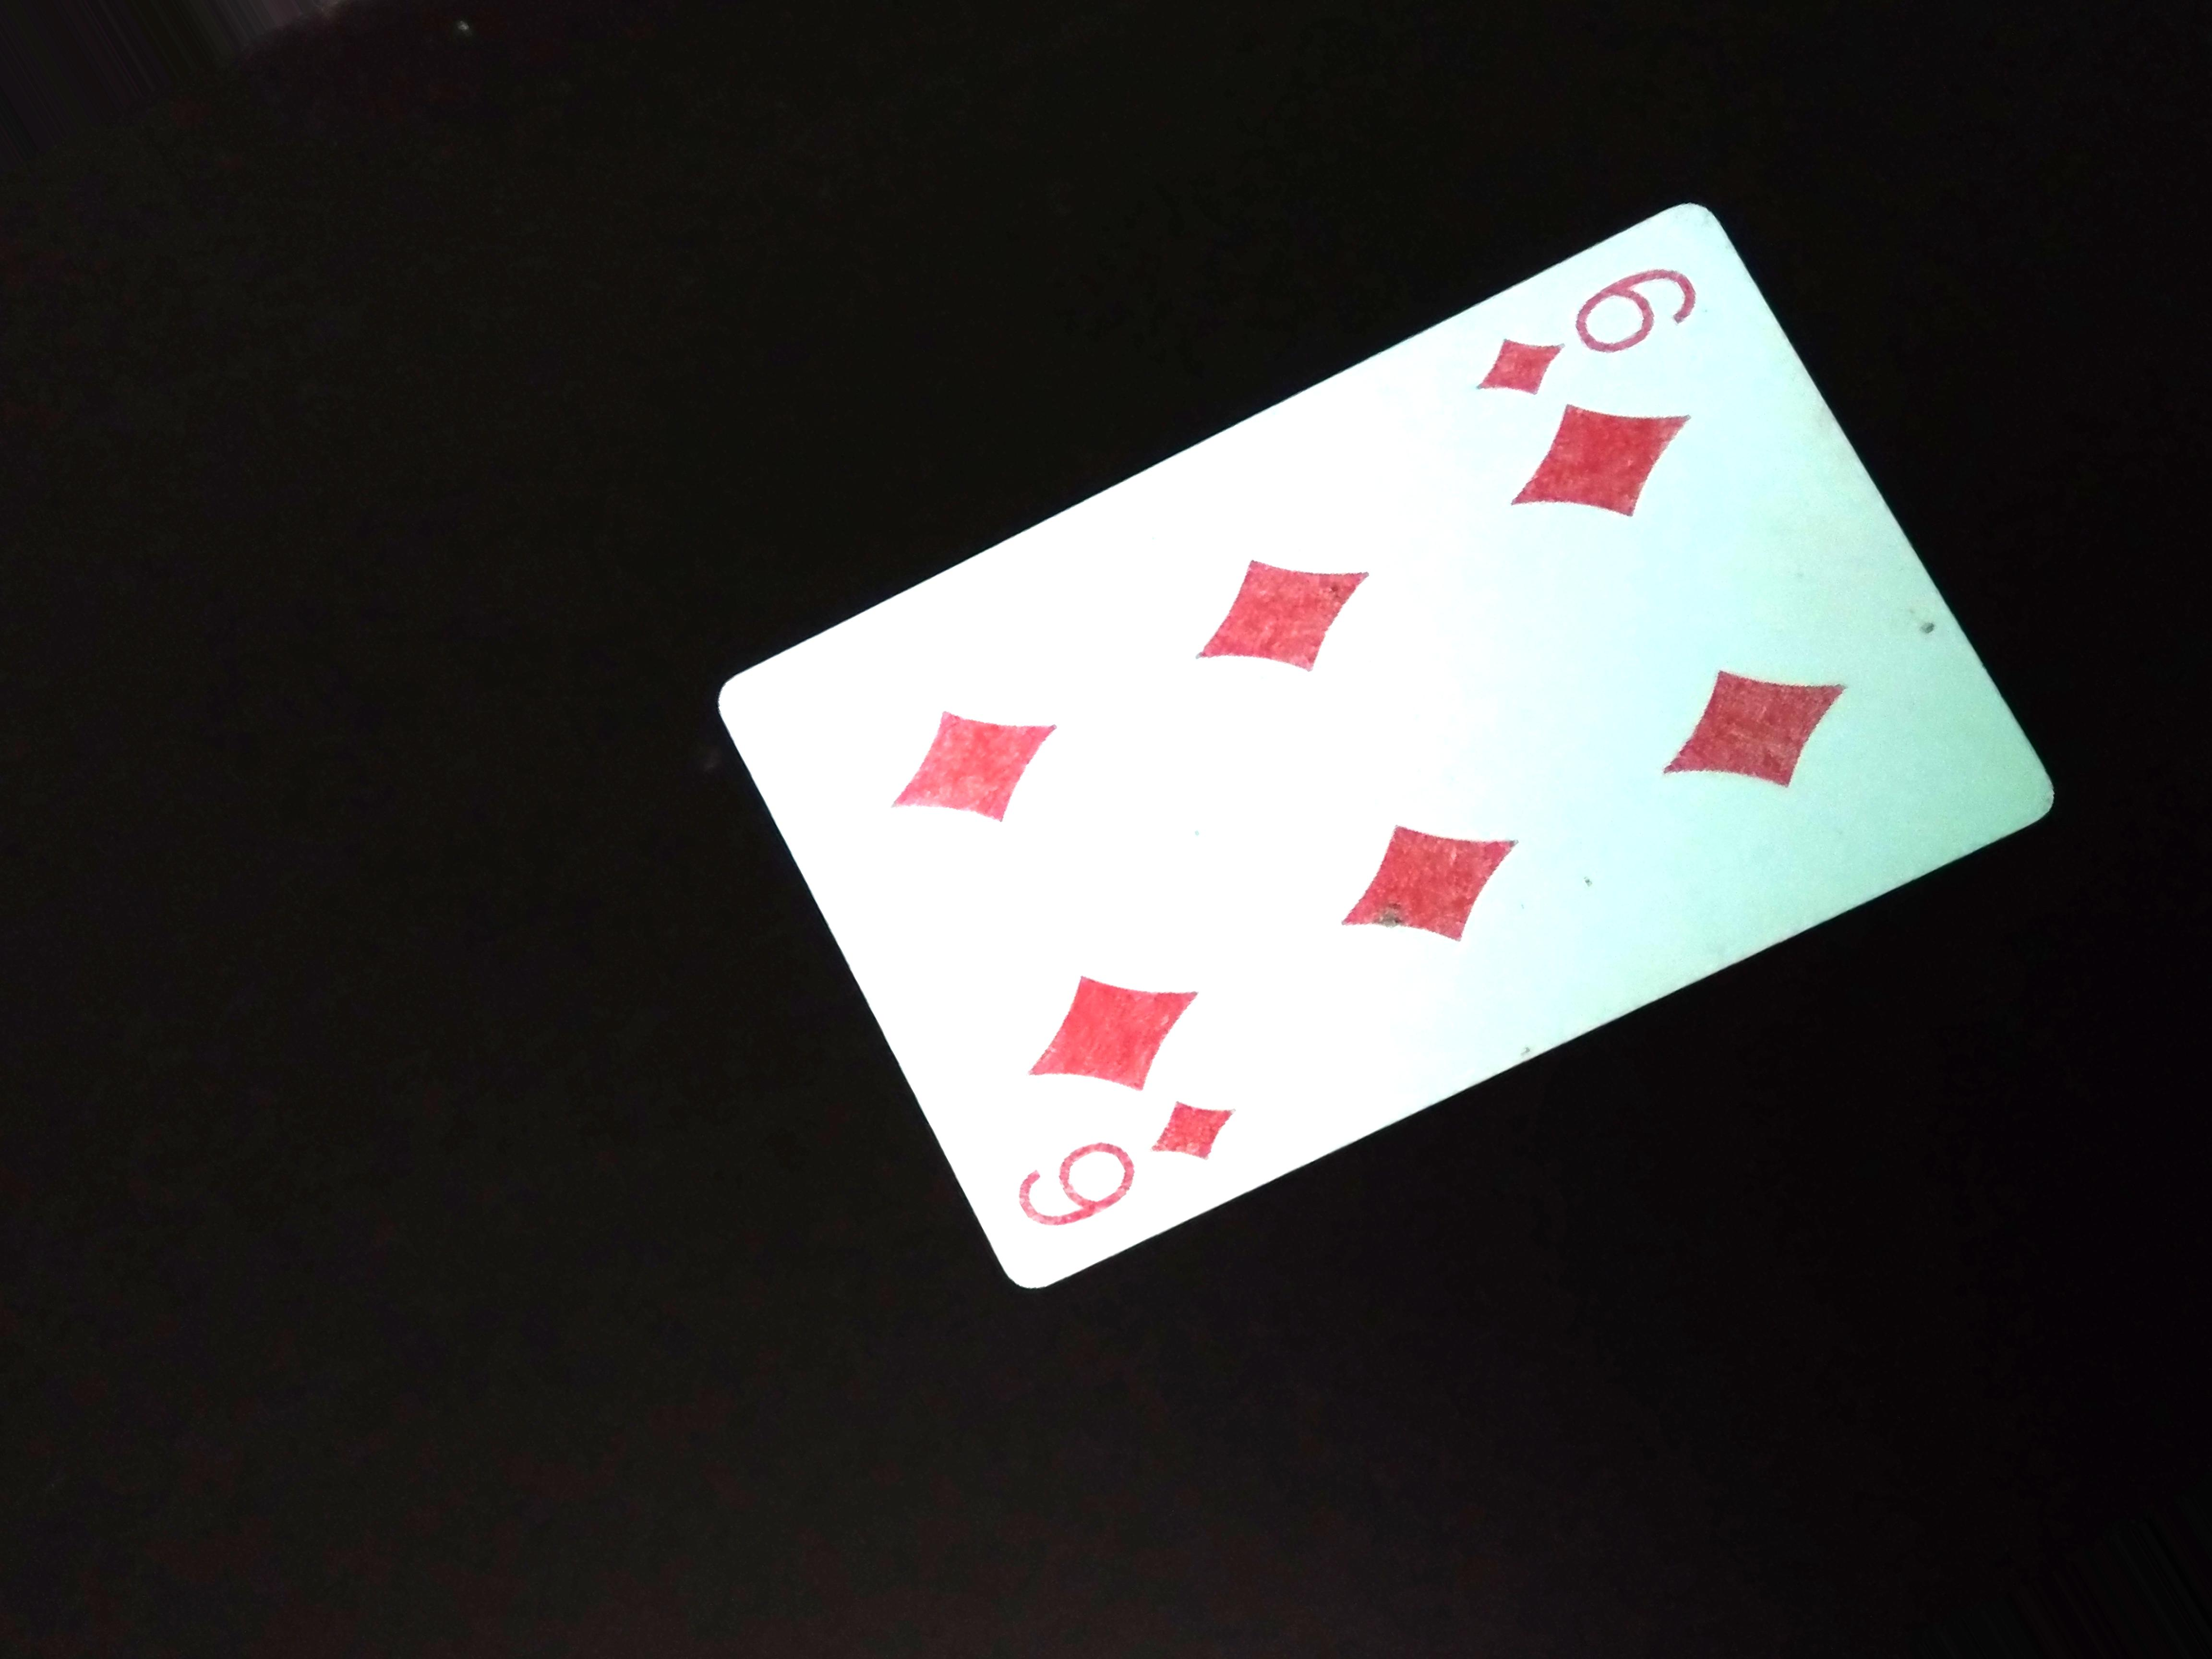6D: (1475, 256, 1709, 406)
